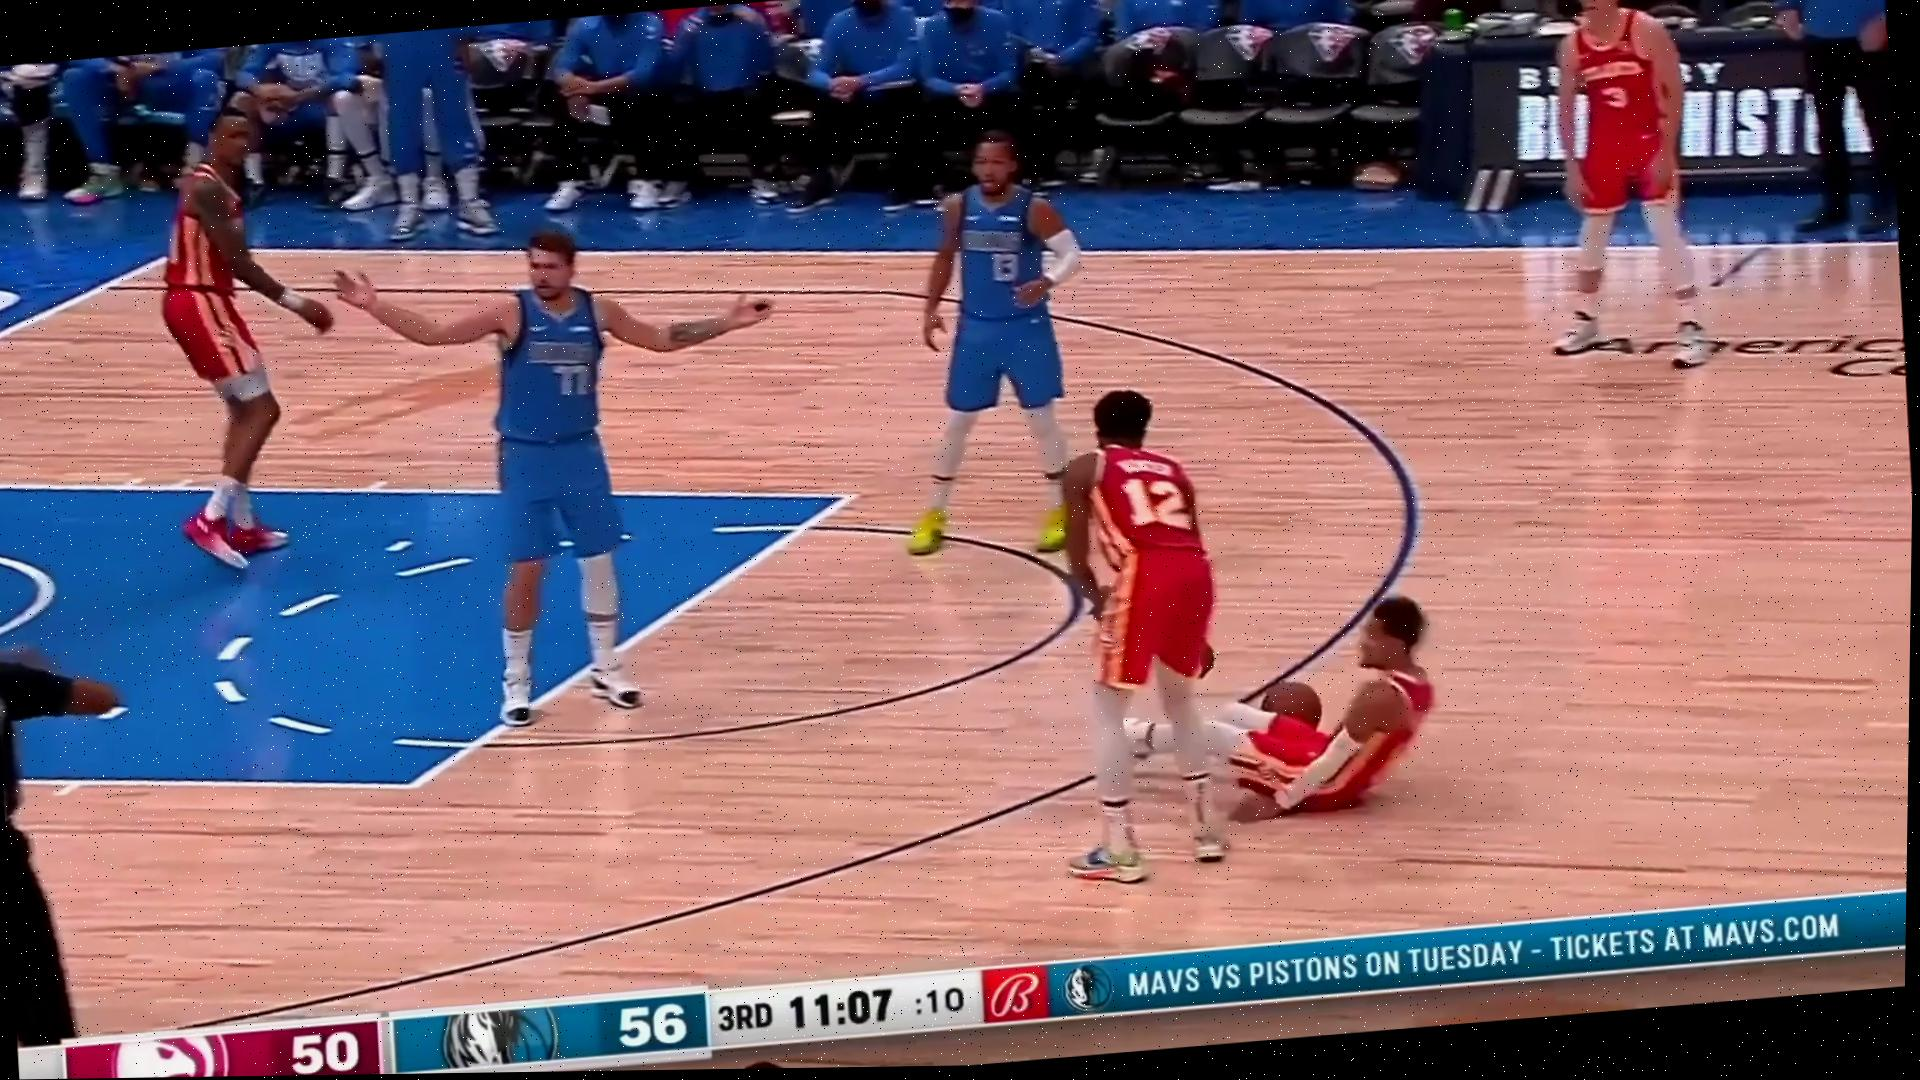no_foul: (907, 113, 1266, 898)
